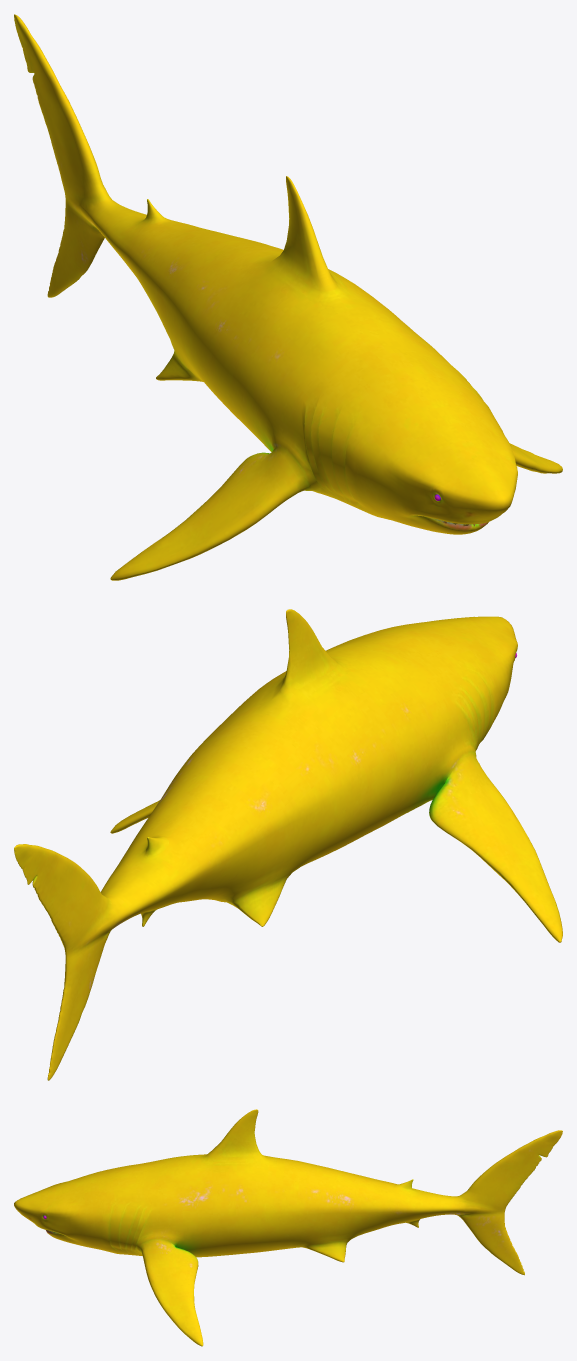
File: Megalodon.glb
The picture shows the model from 3 angles, top to bottom: view 1: azimuth 30°, elevation 25°; view 2: azimuth 150°, elevation 25°; view 3: azimuth 270°, elevation 25°; orthographic projection. The views are drawn at different scales.
Parts seen in each view (by area): view 1: megalodon.1; view 2: megalodon.1; view 3: megalodon.1.
Part boxes in pixels (x1=…): megalodon.1: x1=14, y1=14, x2=562, y2=580; megalodon.1: x1=14, y1=609, x2=562, y2=1080; megalodon.1: x1=14, y1=1109, x2=562, y2=1346.
Size of the model in its own units: 0.6804 by 0.4527 by 1.28.
1 material, 1 textured.
